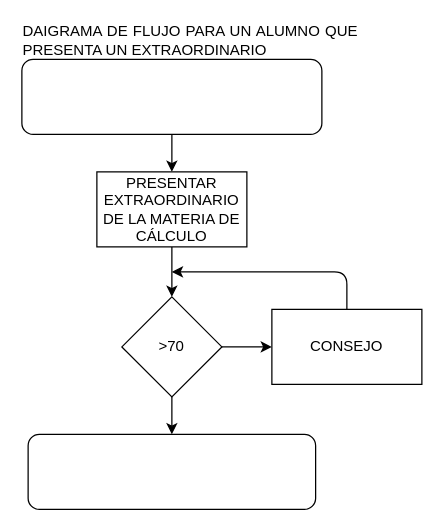
This 444x531 diagram has some shape labels left out. Here are the shapes that lost their labels. From the top down, the centre of each, then its label:
At (x=171, y=96): "INICIO".
At (x=171, y=471): "FIN".
